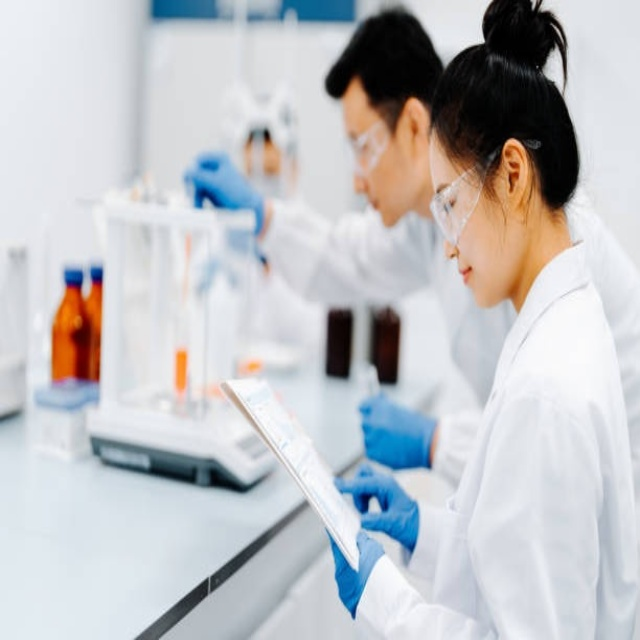Gafas: (429, 150, 493, 249), (345, 114, 391, 177)
Guantes: (334, 455, 419, 554), (182, 146, 268, 243), (357, 383, 437, 464), (322, 519, 383, 615)
Sin_mascara: (449, 249, 493, 309), (357, 179, 394, 224)
